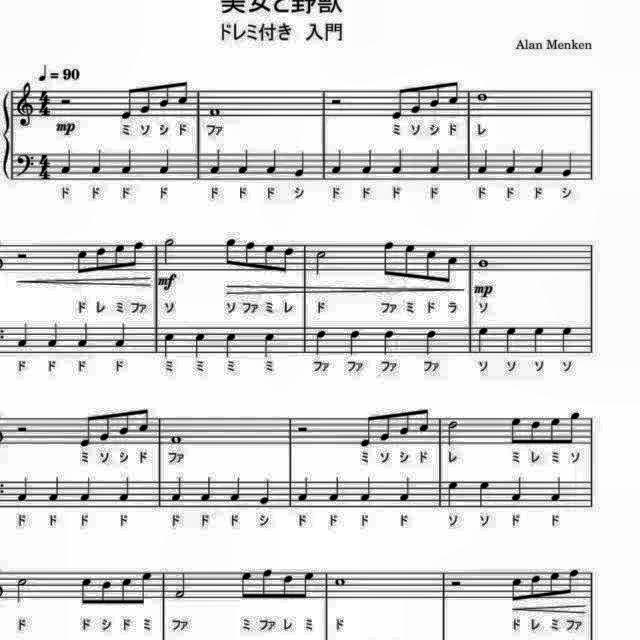Bass-clef: (12, 151, 36, 181)
Eighth-note: (378, 236, 394, 280), (421, 247, 439, 285), (565, 408, 583, 446), (386, 83, 404, 121), (117, 85, 135, 123), (76, 411, 94, 449), (357, 412, 375, 450), (402, 241, 418, 283), (76, 574, 94, 610), (138, 568, 154, 608), (238, 568, 255, 604), (260, 567, 276, 603), (443, 254, 461, 286), (73, 247, 91, 279), (118, 573, 134, 607), (221, 233, 237, 267), (509, 574, 526, 606), (446, 76, 462, 108), (410, 84, 426, 116), (262, 242, 278, 274), (280, 572, 296, 604), (138, 84, 154, 116), (242, 238, 258, 270), (280, 246, 296, 278), (564, 566, 580, 598), (136, 403, 152, 435), (548, 414, 564, 446), (416, 404, 432, 436), (110, 242, 126, 274), (301, 570, 317, 602), (506, 414, 522, 446), (396, 408, 412, 440), (115, 408, 131, 440), (378, 410, 394, 442), (546, 568, 562, 600), (98, 410, 114, 442), (130, 240, 146, 272), (426, 80, 442, 112), (98, 578, 114, 608), (94, 246, 110, 276), (528, 572, 544, 602), (176, 76, 190, 108), (158, 82, 174, 110), (528, 417, 542, 448)
Full-note: (334, 572, 350, 588), (208, 104, 224, 120), (168, 432, 186, 446), (475, 90, 491, 104), (476, 257, 492, 271)
Half-note: (172, 568, 190, 602), (444, 416, 462, 448), (12, 572, 30, 604), (312, 249, 330, 279), (162, 236, 178, 266)
Half-rest: (58, 93, 74, 111), (12, 248, 30, 262), (448, 575, 464, 589), (12, 422, 30, 434), (330, 95, 346, 108), (296, 422, 312, 434)
Quarter-note: (157, 146, 175, 178), (529, 324, 547, 356), (501, 324, 519, 356), (389, 146, 407, 178), (380, 328, 398, 359), (258, 477, 276, 508), (207, 147, 225, 177), (190, 329, 208, 359), (507, 475, 525, 505), (118, 476, 136, 506), (425, 147, 443, 177), (422, 327, 440, 357), (358, 147, 376, 177), (46, 323, 64, 353), (311, 328, 329, 358), (261, 331, 279, 361), (476, 324, 492, 356), (558, 324, 574, 356), (560, 148, 576, 180), (198, 474, 214, 506), (170, 474, 187, 504), (223, 329, 240, 359), (59, 147, 76, 177), (14, 475, 31, 505), (294, 476, 312, 504), (446, 478, 462, 509), (477, 478, 493, 509), (346, 327, 362, 358), (15, 322, 32, 351), (120, 147, 136, 177), (162, 330, 178, 360), (550, 475, 566, 505), (396, 475, 412, 505), (476, 147, 492, 177), (78, 475, 94, 505), (112, 321, 128, 351), (330, 147, 346, 177), (90, 147, 106, 177), (236, 148, 252, 178), (74, 321, 90, 351), (358, 475, 374, 505), (228, 475, 244, 505), (292, 148, 308, 178), (266, 148, 282, 178), (48, 476, 64, 506), (502, 148, 518, 178), (530, 148, 546, 178), (328, 475, 344, 505)
Treble-clef: (14, 80, 36, 130)
